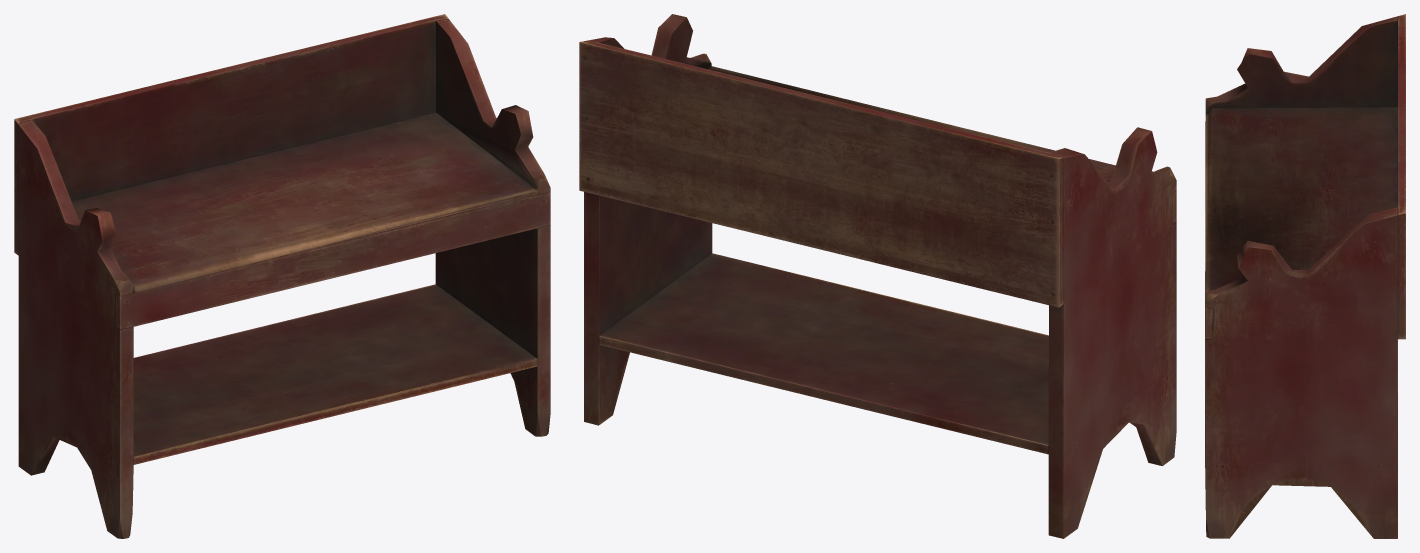
Rendered from painted_wooden_bench.glb.
3 views of the same model, side by side, from view 1: azimuth 30°, elevation 25°; view 2: azimuth 150°, elevation 25°; view 3: azimuth 270°, elevation 25° (orthographic). The views are drawn at different scales.
Parts seen in each view (by area): view 1: painted_wooden_bench; view 2: painted_wooden_bench; view 3: painted_wooden_bench.
Part boxes in pixels (left/top/right/bottom): painted_wooden_bench: left=14, top=14, right=550, bottom=538; painted_wooden_bench: left=579, top=14, right=1176, bottom=538; painted_wooden_bench: left=1205, top=14, right=1405, bottom=538.
Bounding box in the file's own units: 1.16 × 0.8893 × 0.4965.
Materials: 1 (1 with a texture image).
